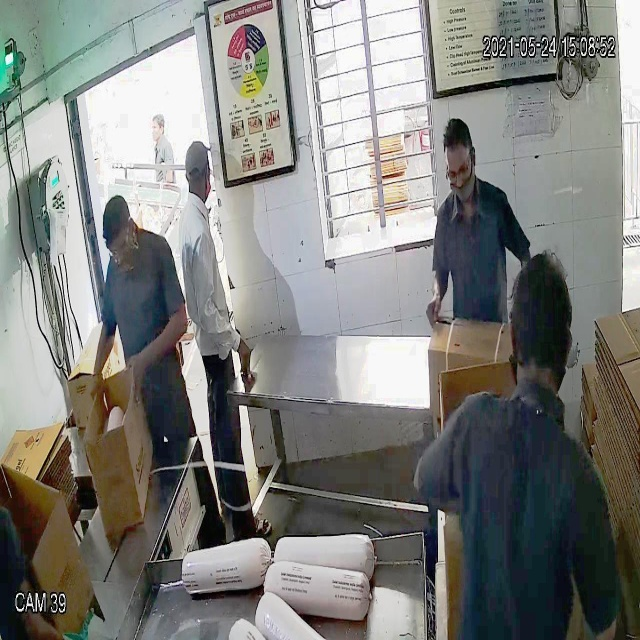Gafas: (438, 154, 480, 187)
